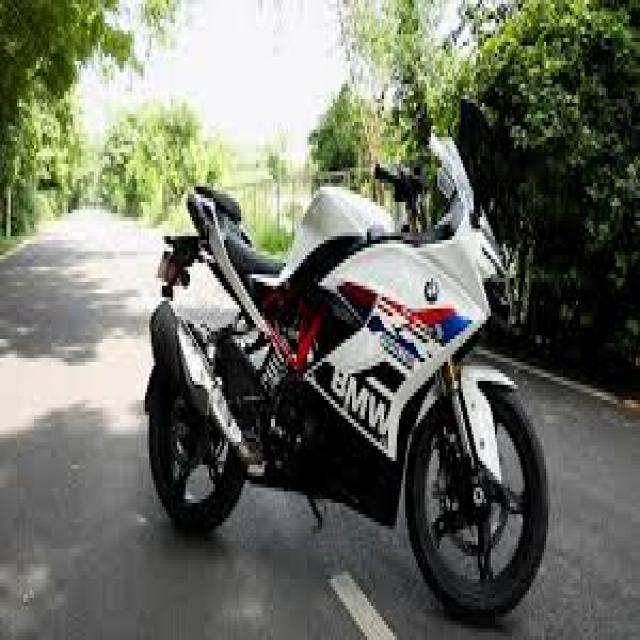Bike: (143, 130, 550, 626)
